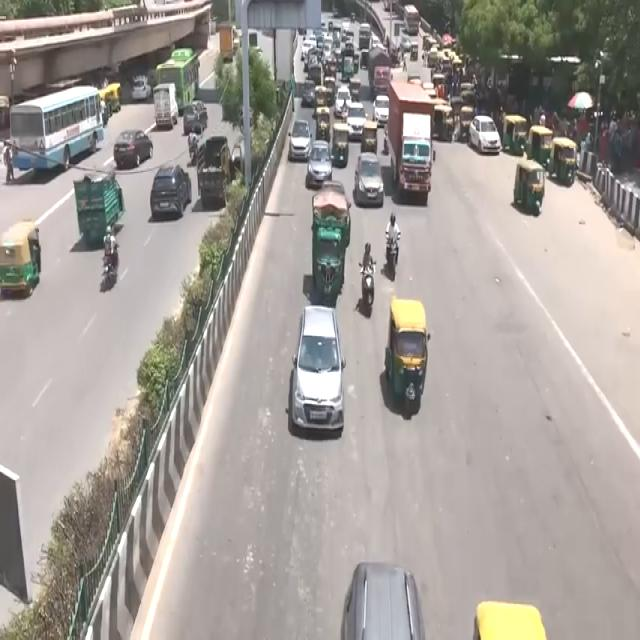BUS: (10, 88, 104, 183)
MOTORCYCLE: (362, 264, 376, 320), (386, 236, 400, 286)
TRUCK: (388, 78, 434, 208)
